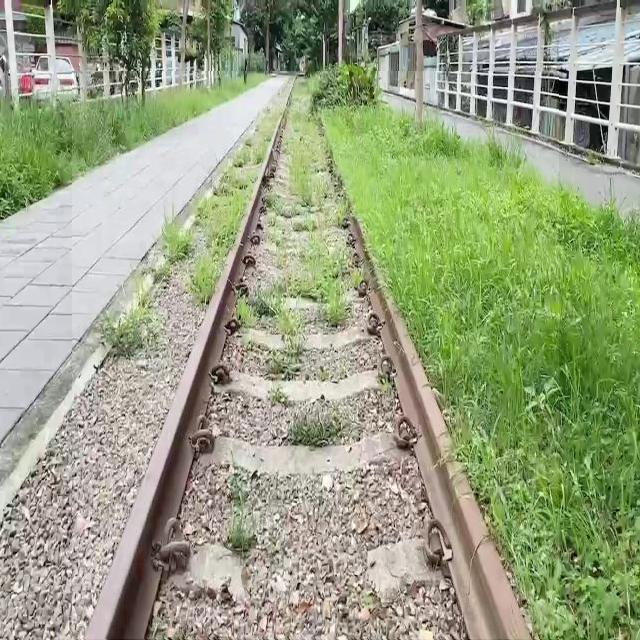rail: (74, 73, 560, 640)
